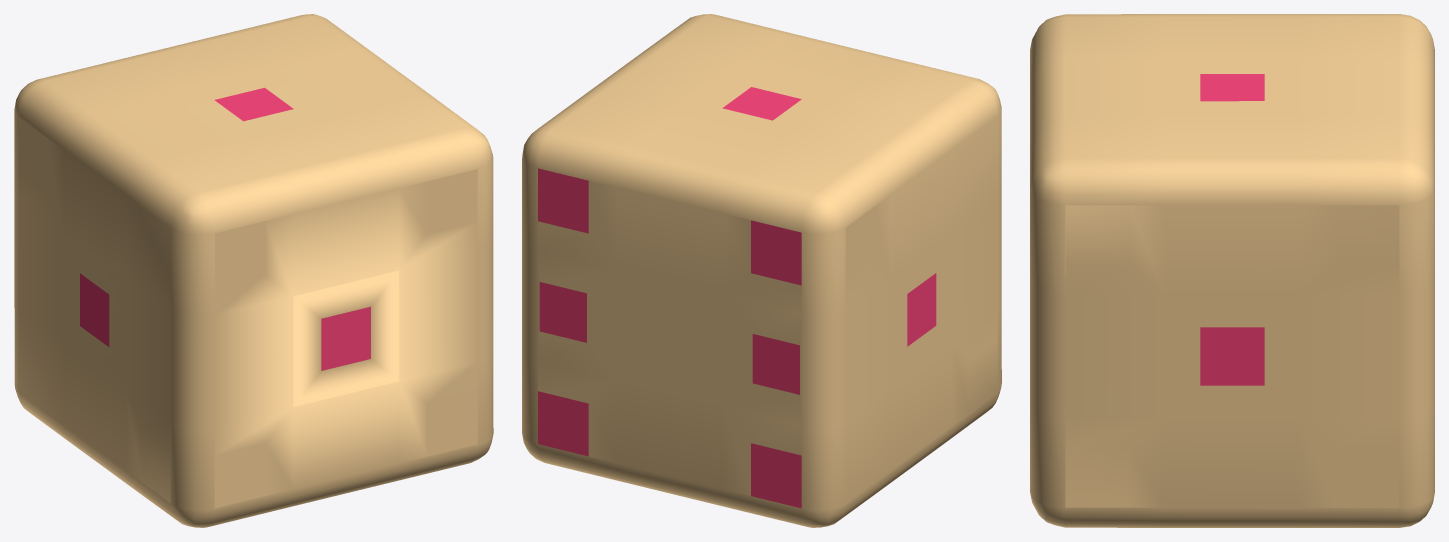
The model's file is AllinDice3.fbx.
3 views of the same model, side by side, from view 1: azimuth 30°, elevation 25°; view 2: azimuth 150°, elevation 25°; view 3: azimuth 270°, elevation 25° (orthographic). The views are drawn at different scales.
Visible parts, largest first — view 1: Aliin; view 2: Aliin; view 3: Aliin.
Part boxes in pixels (x1,y1,x2,y2): Aliin: (14,14,493,527); Aliin: (522,14,1001,527); Aliin: (1030,14,1434,527).
Size of the model in its own units: 200 by 200 by 200.
